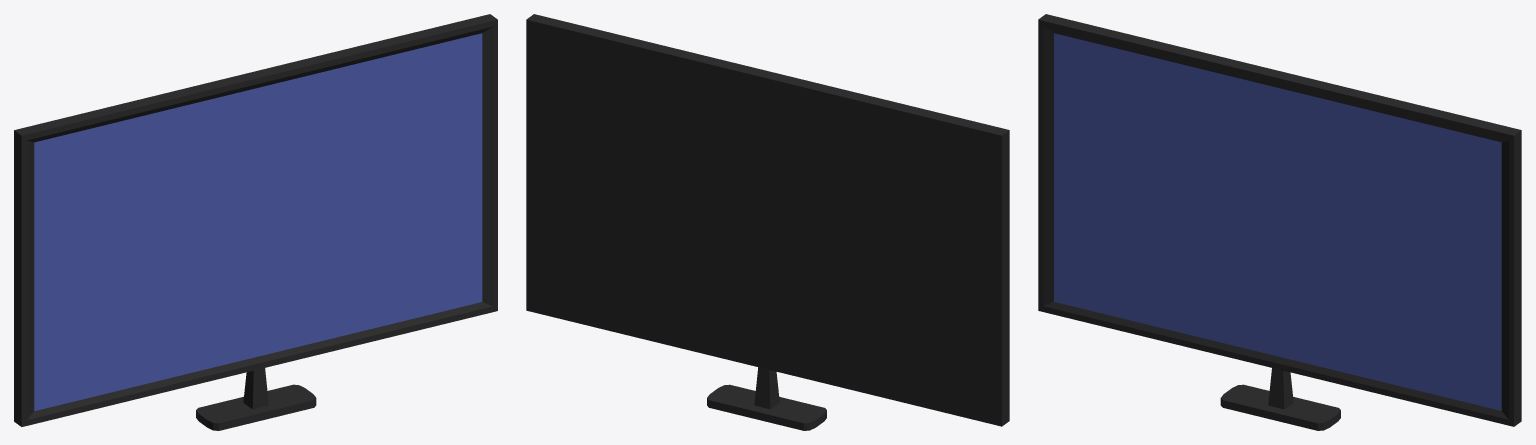
File: Screen_4.fbx
3 views of the same model, side by side, from view 1: azimuth 30°, elevation 25°; view 2: azimuth 150°, elevation 25°; view 3: azimuth 330°, elevation 25° (orthographic).
Visible parts, largest first — view 1: Screen_4; view 2: Screen_4; view 3: Screen_4.
Part boxes in pixels (left/top/right/bottom): Screen_4: left=14, top=14, right=497, bottom=430; Screen_4: left=526, top=14, right=1009, bottom=430; Screen_4: left=1038, top=14, right=1521, bottom=430.
Bounding box in the file's own units: 0.6695 × 0.453 × 0.0513.
